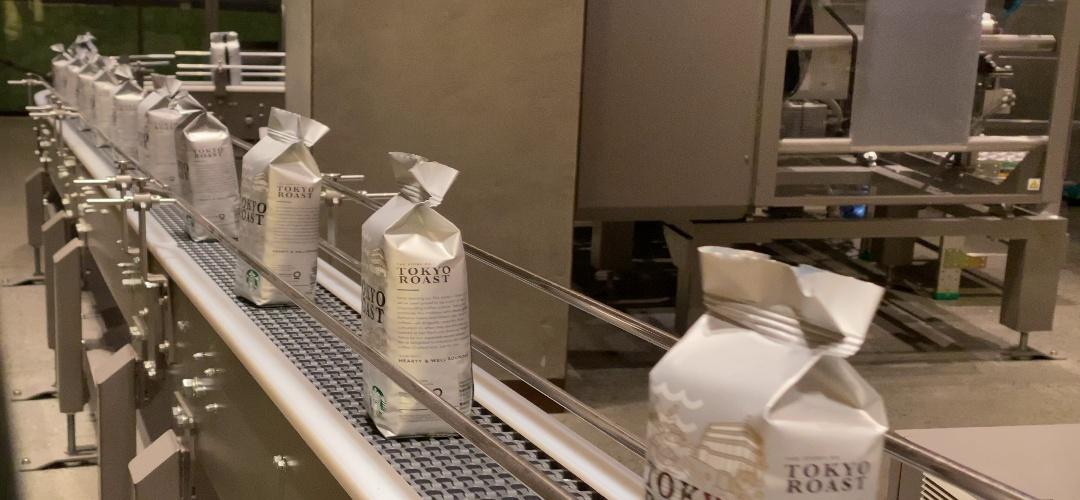conveyor: (651, 364, 881, 500), (360, 207, 468, 355), (242, 154, 320, 248), (174, 124, 238, 202)
